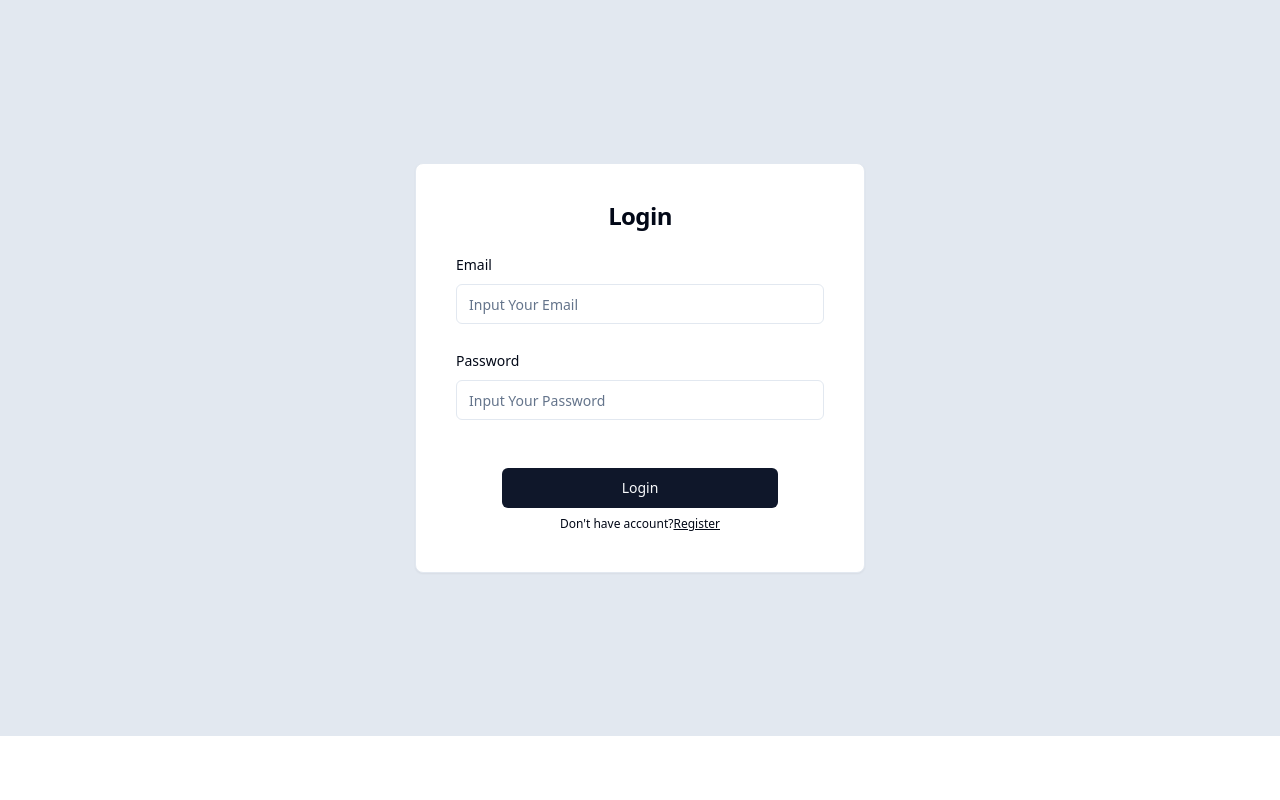
LoginForm component › error validation in login form
The image size is (1280, 800).
Click the button. click: (640, 488)
box: left=502, top=468, right=778, bottom=508
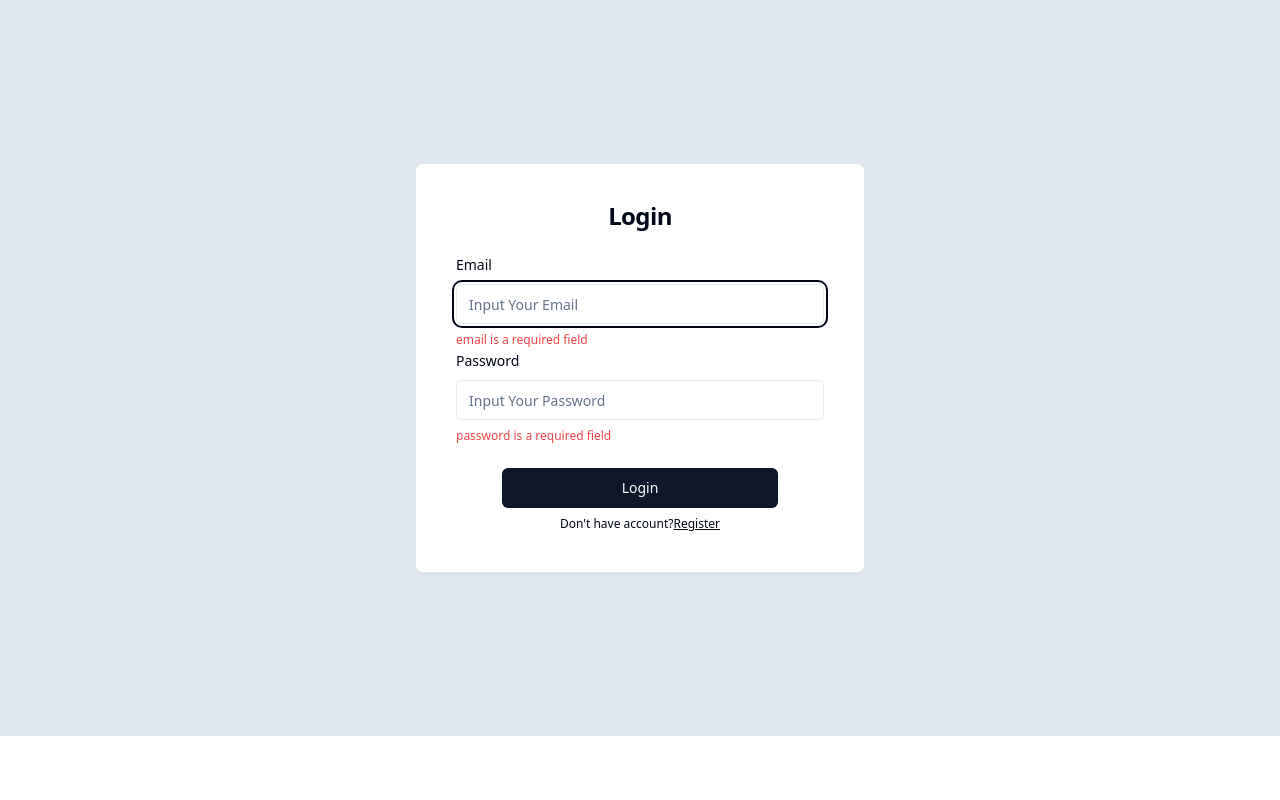
Expected: the text "email is a required field" is shown, left=456, top=331, right=588, bottom=348
Expected: the text "password is a required field" is shown, left=456, top=427, right=611, bottom=444
